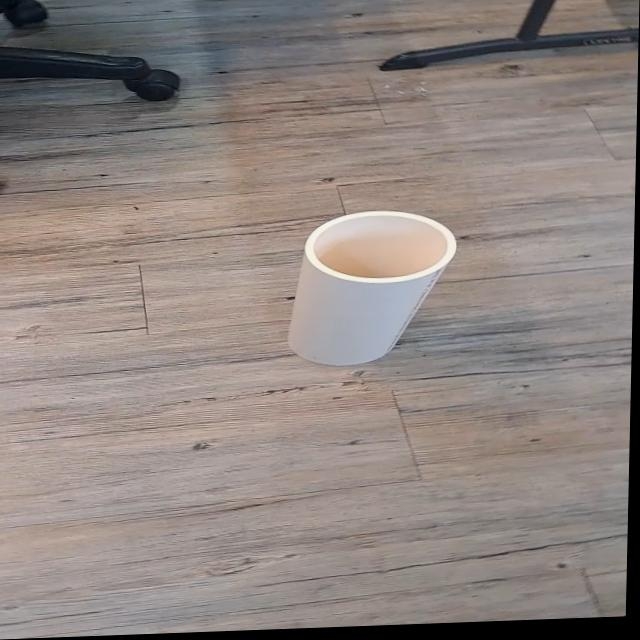CORAL: (261, 184, 469, 390)
